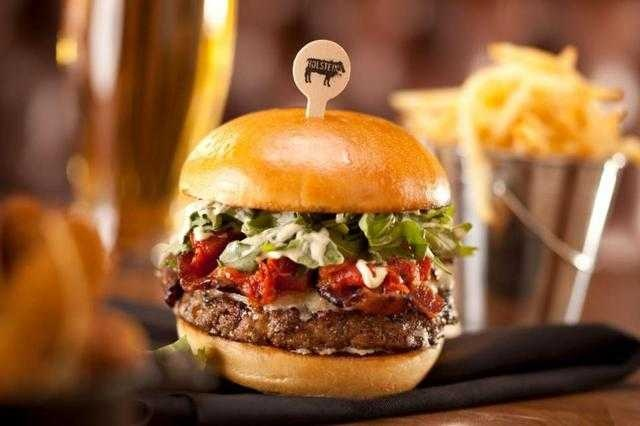hamburger: (161, 91, 468, 396)
